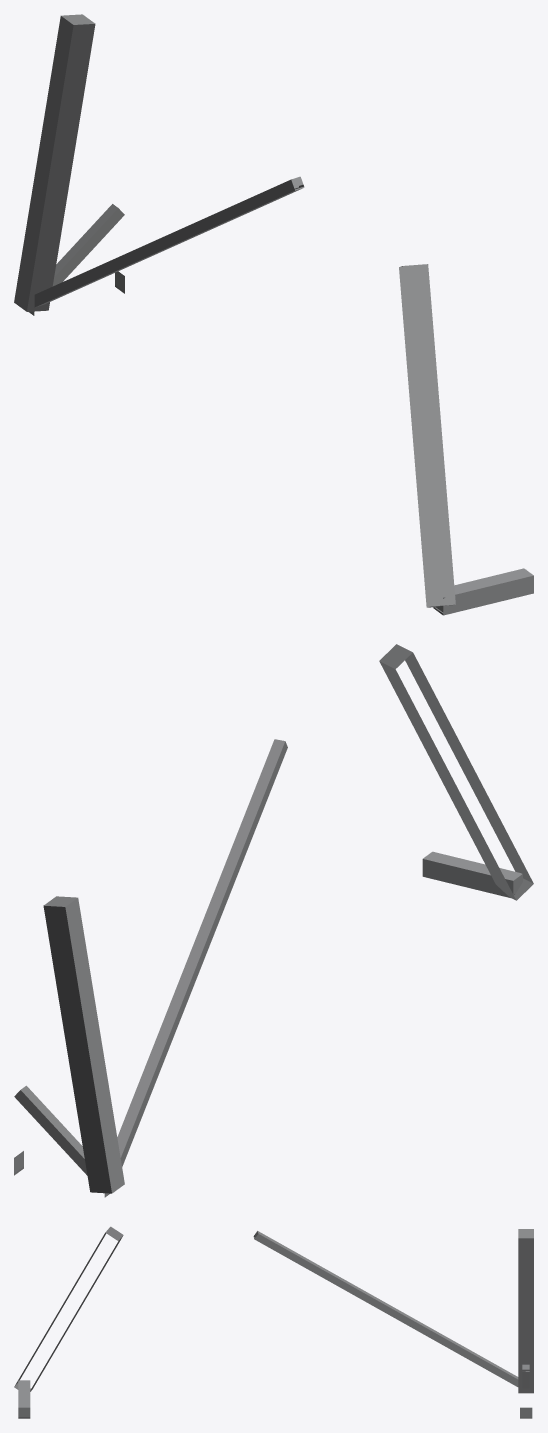
3 renders of one model, top to bottom at view 1: azimuth 30°, elevation 25°; view 2: azimuth 150°, elevation 25°; view 3: azimuth 270°, elevation 25°, orthographic. The views are drawn at different scales.
Bounding box in the file's own units: 0.3048 × 0.7987 × 2.14.
